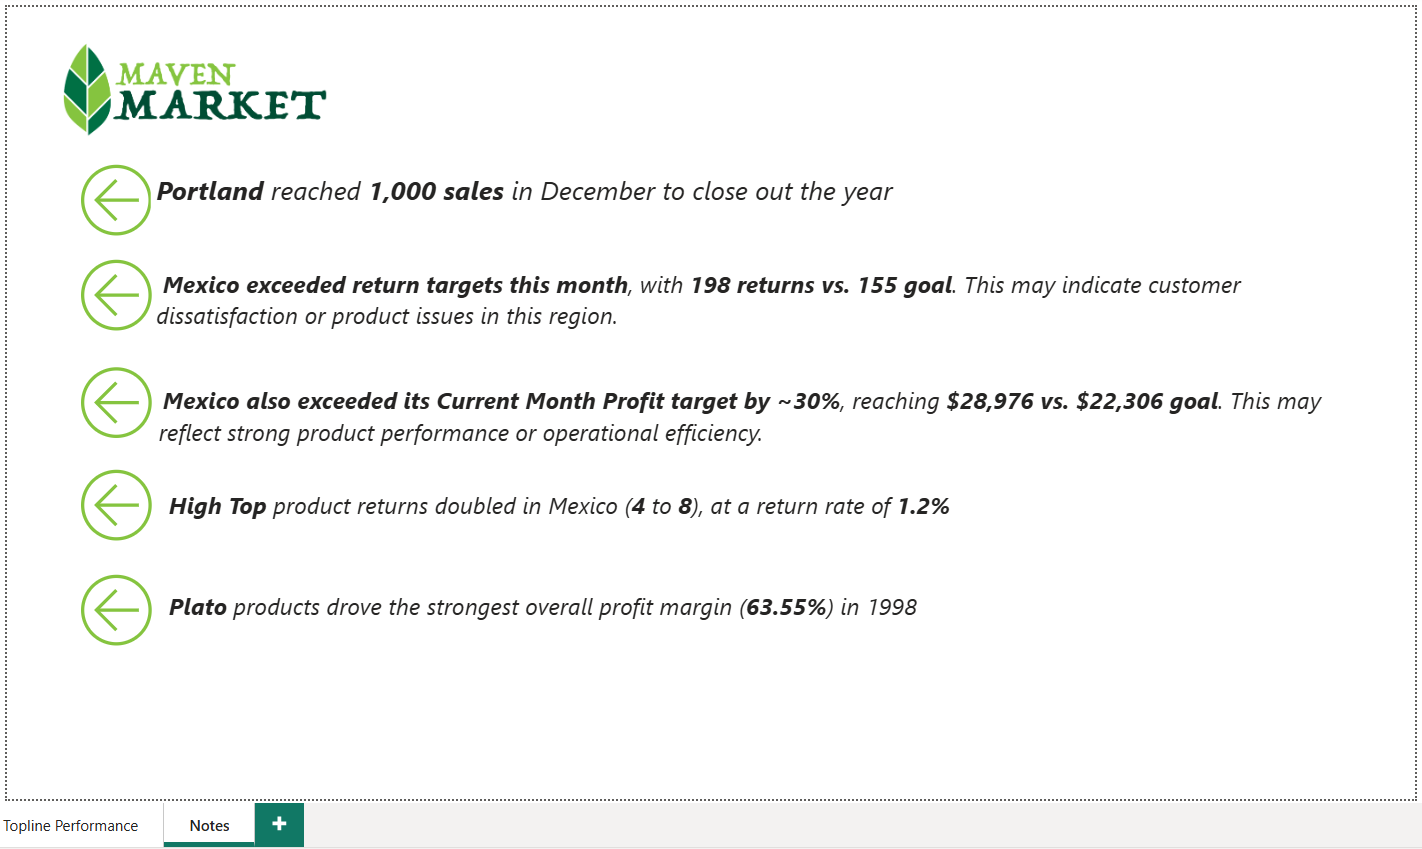

The dashboard page shown, as its layout file describes it:
{"tool":"powerbi","page":{"name":"Notes","canvas":[1280,720],"ordinal":1},"visuals":[{"type":"actionButton","box":[59.1,135.2,143.2,80.7],"z":0},{"type":"textbox","box":[130.7,145.5,822.7,70.5],"z":1000},{"type":"image","box":[39.8,0,260.2,150],"z":2000},{"type":"textbox","box":[130.7,231.8,1046.6,87.5],"z":2001},{"type":"actionButton","box":[59.1,221.6,143.2,80.7],"z":2002},{"type":"actionButton","box":[59.1,319.3,143.2,80.7],"z":2003},{"type":"textbox","box":[133,337.5,1069.3,150],"z":2004},{"type":"actionButton","box":[59.1,412.5,143.2,80.7],"z":2005},{"type":"textbox","box":[142,433,1050,150],"z":2006},{"type":"actionButton","box":[59.1,508,143.2,80.7],"z":2007},{"type":"textbox","box":[300,0,878,150],"z":2008},{"type":"textbox","box":[142,525,923.9,171.6],"z":2009}]}

Visuals, with their boxes on the page's 1280x720 design canvas (x1, y1, x2, y2). These are canvas units, not pixel positions in the 1422x849 screenshot, which may show the page scaled, cropped or inside an application window:
actionButton: <bbox>59, 135, 202, 216</bbox>
textbox: <bbox>131, 146, 953, 216</bbox>
image: <bbox>40, 0, 300, 150</bbox>
textbox: <bbox>131, 232, 1177, 319</bbox>
actionButton: <bbox>59, 222, 202, 302</bbox>
actionButton: <bbox>59, 319, 202, 400</bbox>
textbox: <bbox>133, 338, 1202, 488</bbox>
actionButton: <bbox>59, 412, 202, 493</bbox>
textbox: <bbox>142, 433, 1192, 583</bbox>
actionButton: <bbox>59, 508, 202, 589</bbox>
textbox: <bbox>300, 0, 1178, 150</bbox>
textbox: <bbox>142, 525, 1066, 697</bbox>
